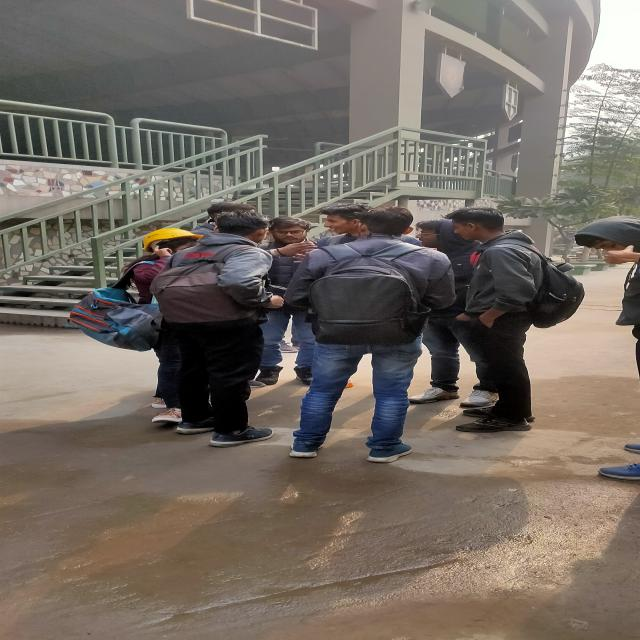unsafe: (293, 207, 441, 461), (157, 213, 274, 447), (447, 208, 537, 432)
